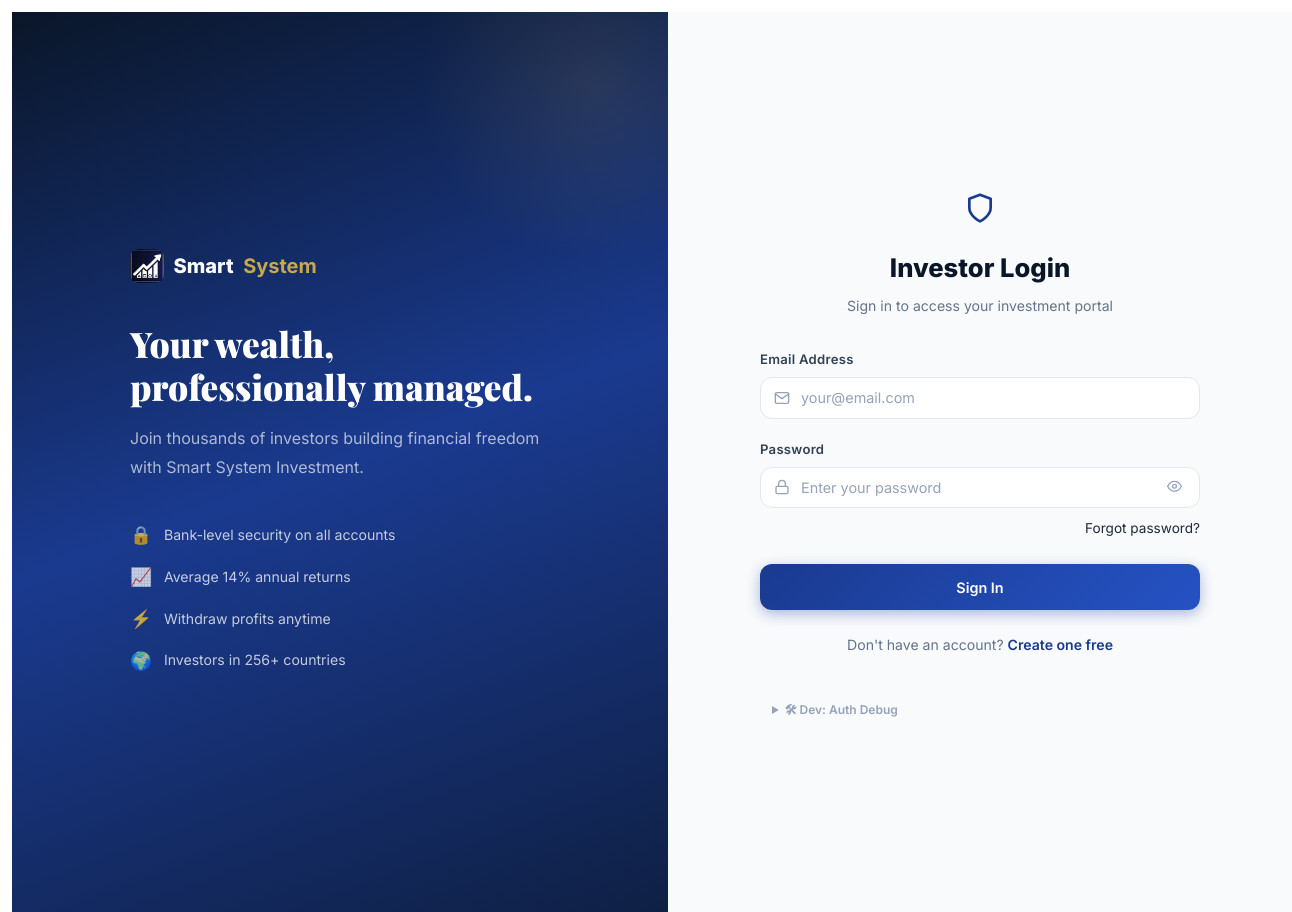
Test: LoginPage — where each role goes after a successful login › marvflow_member → MARVFLOW DASHBOARD
Type "someone@ssi-dev.test" into the field with placeholder "your@email.com" at [980, 398], box [760,377,1200,419]
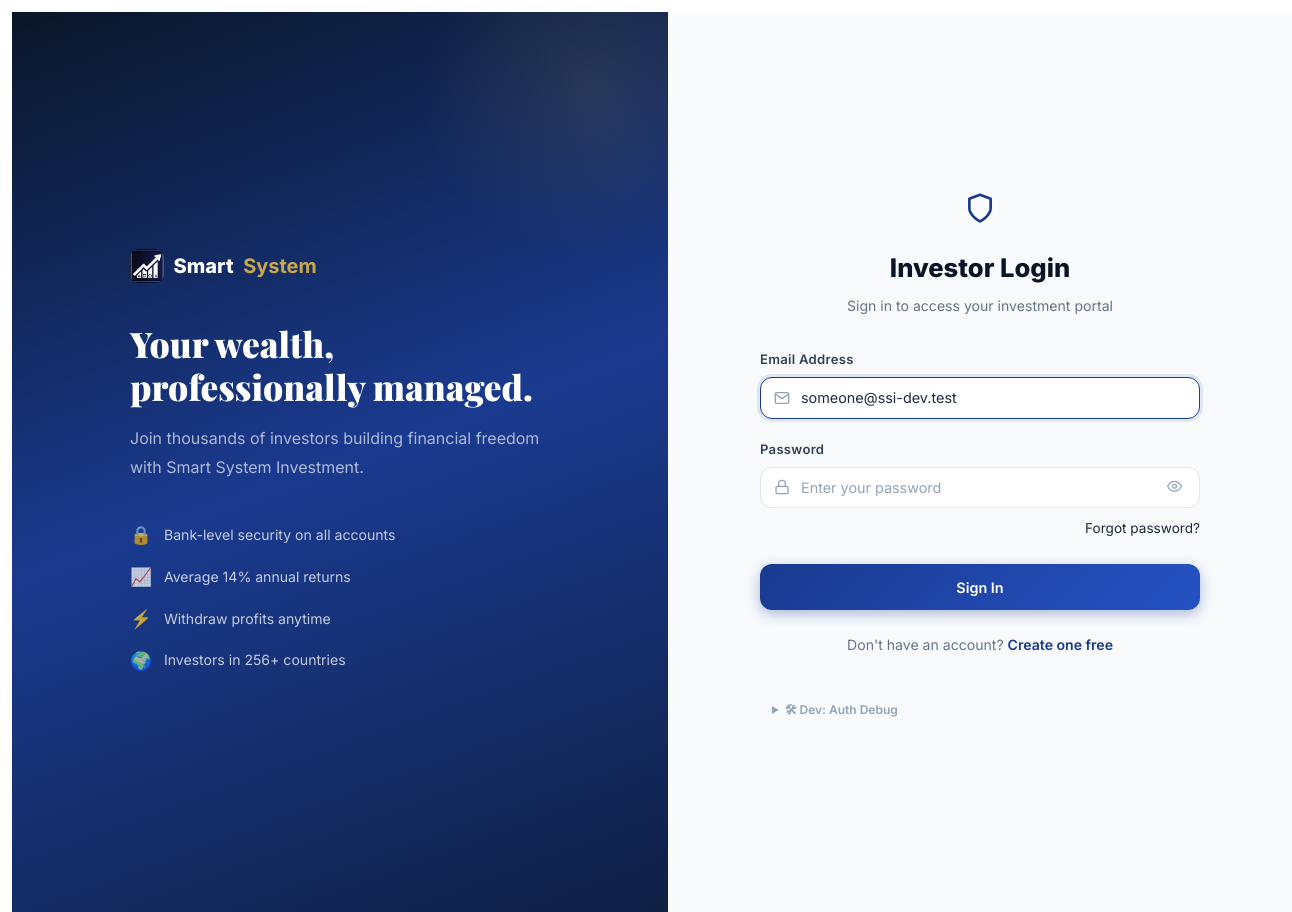
Type "not-a-real-password" into the password field with placeholder "Enter your password" at [980, 488], box [760,467,1200,508]
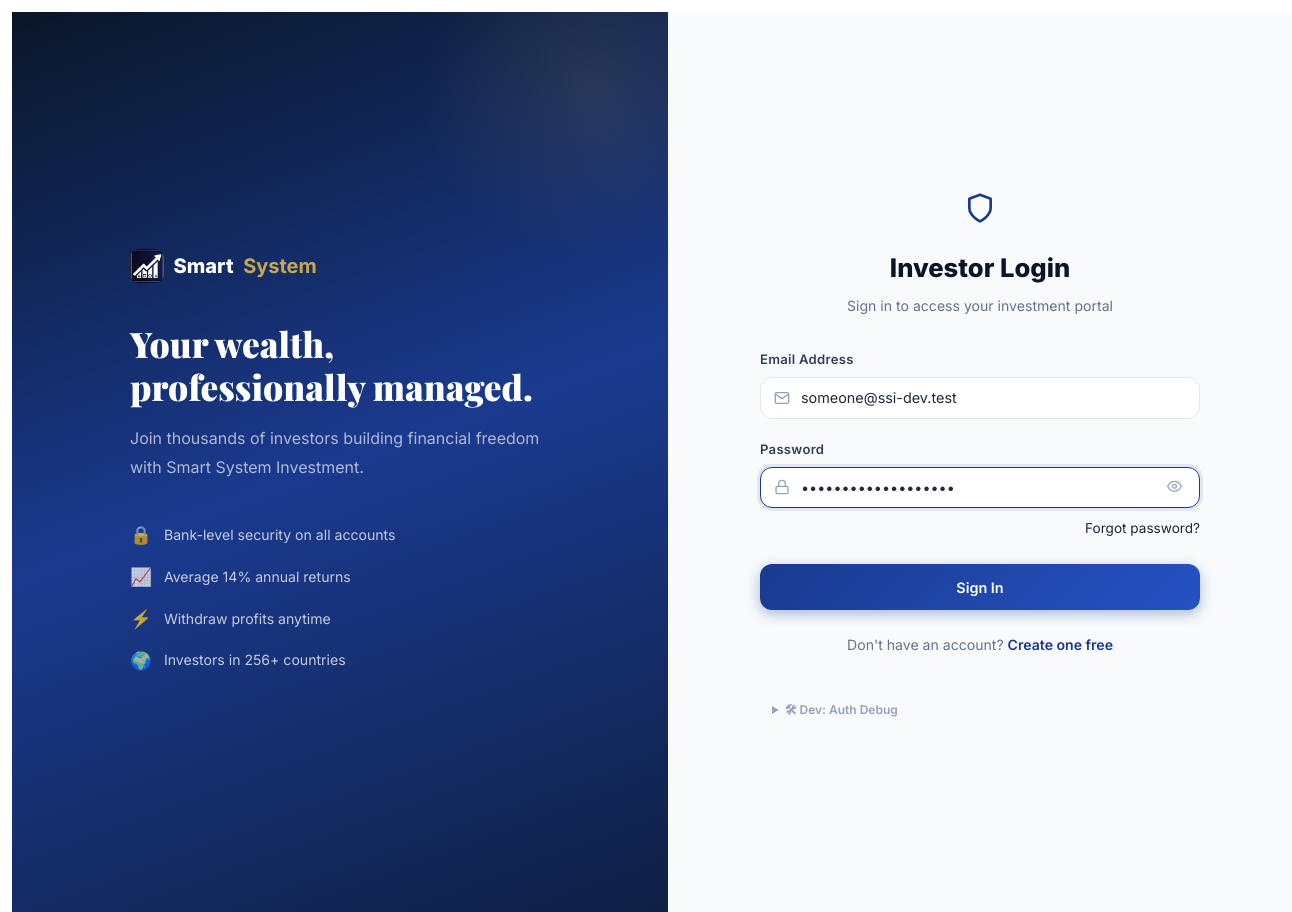
Click the button "Sign In" at [980, 587], box [760,564,1200,610]
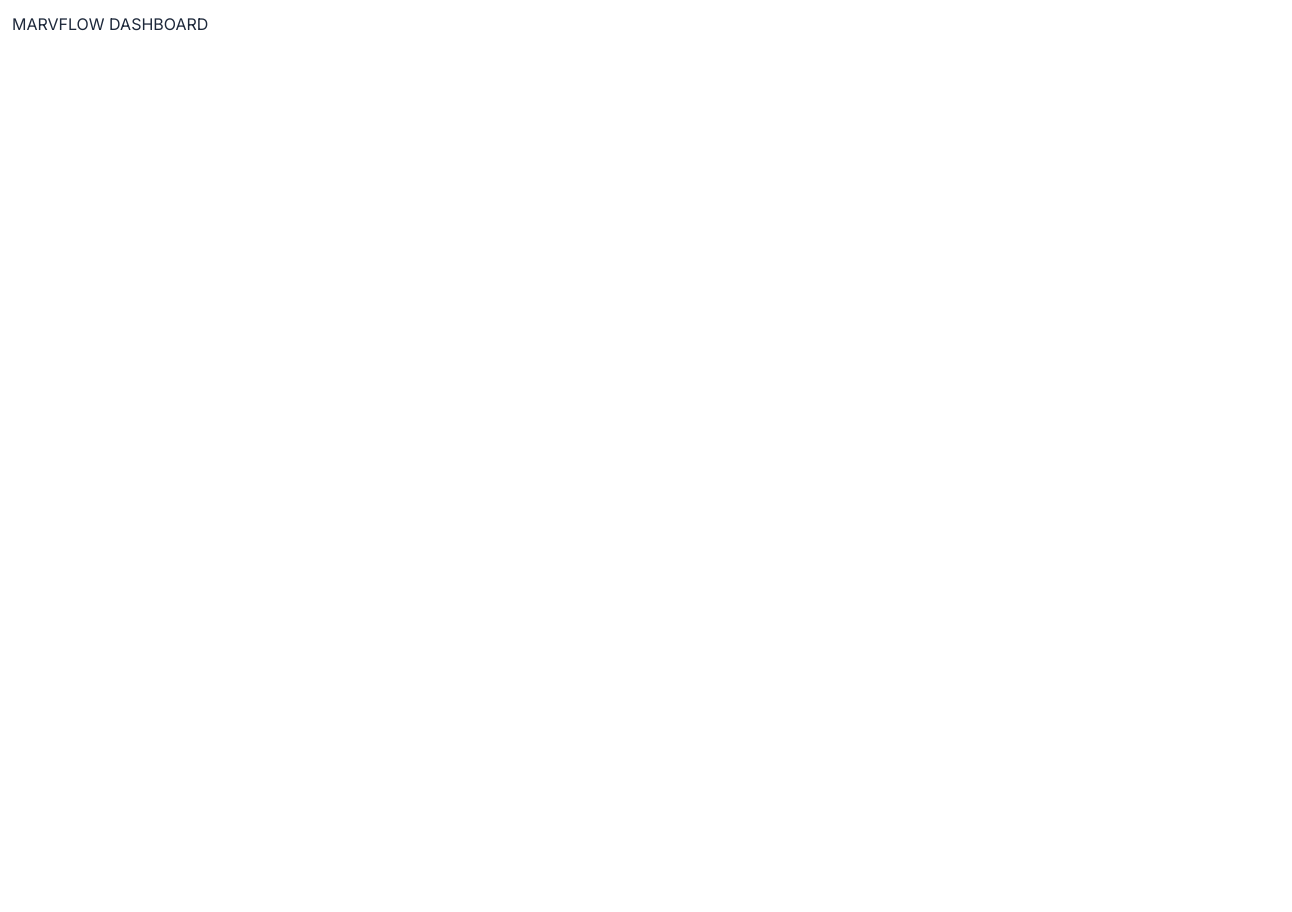
Now the text "MARVFLOW DASHBOARD" is shown, box [12,14,208,34]
